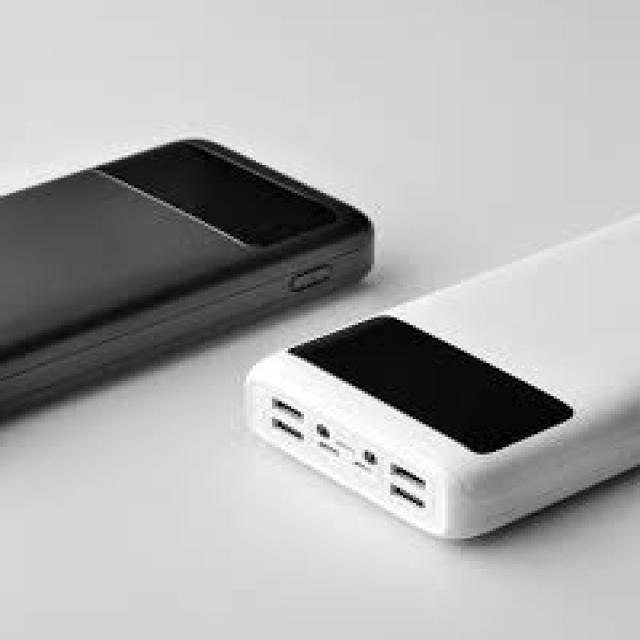power_bank: (250, 209, 640, 543), (0, 134, 372, 423)
